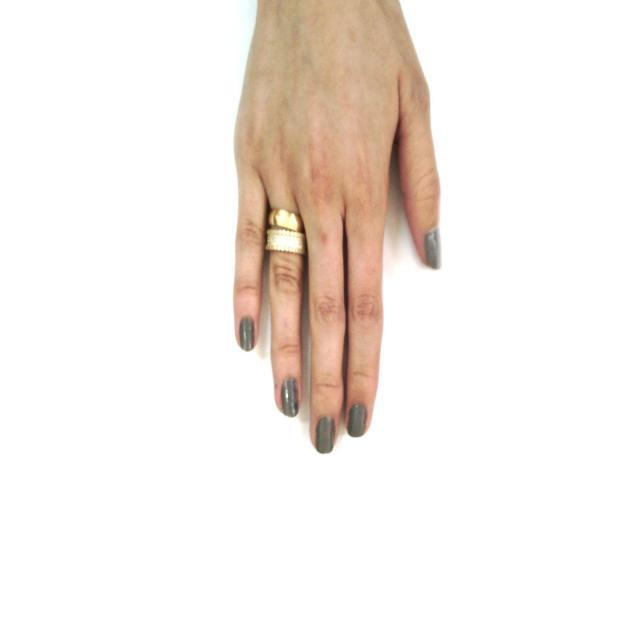Fingernail: (316, 417, 335, 453), (281, 378, 298, 416), (425, 229, 441, 269), (348, 404, 367, 436), (239, 316, 255, 350)
